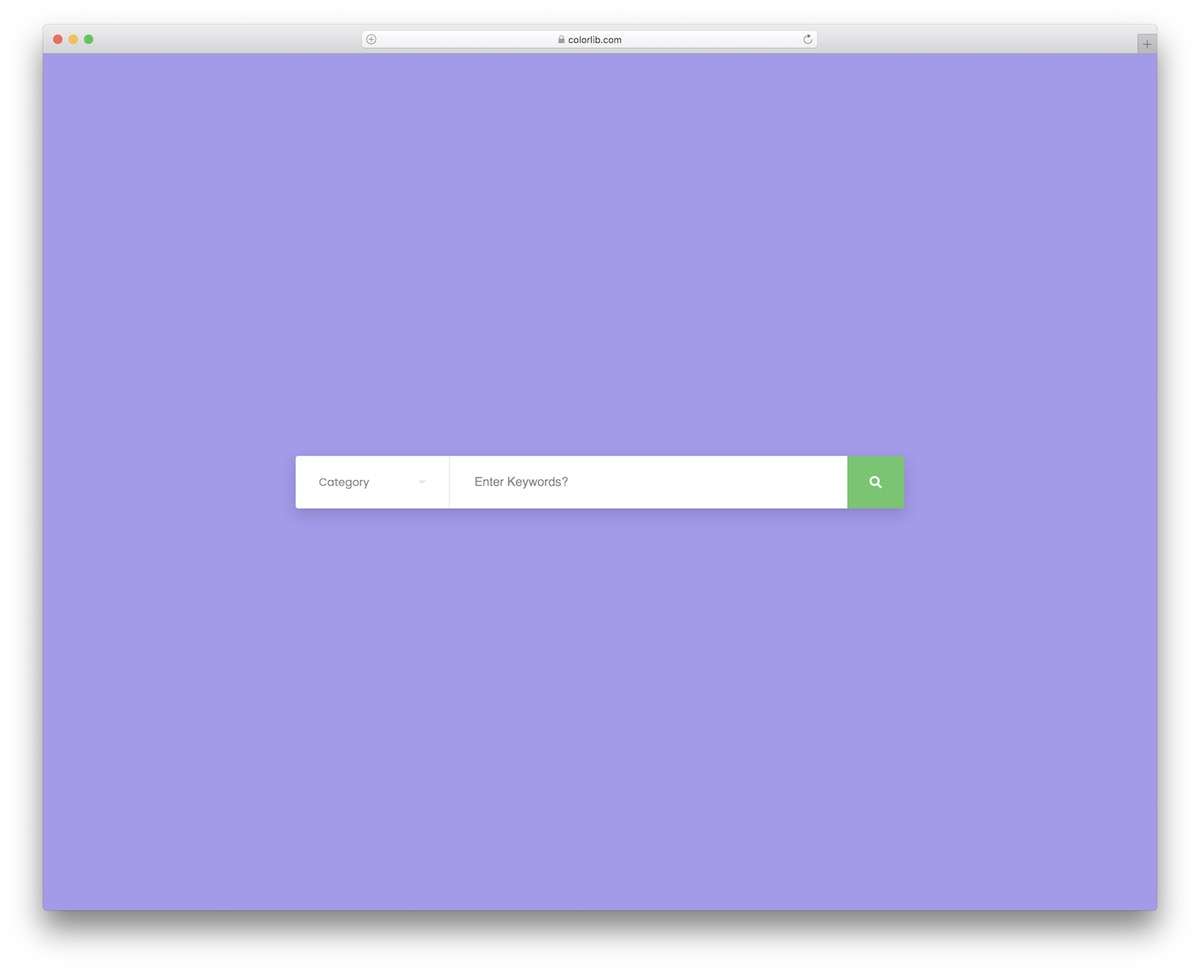search_box: (450, 454, 907, 507)
